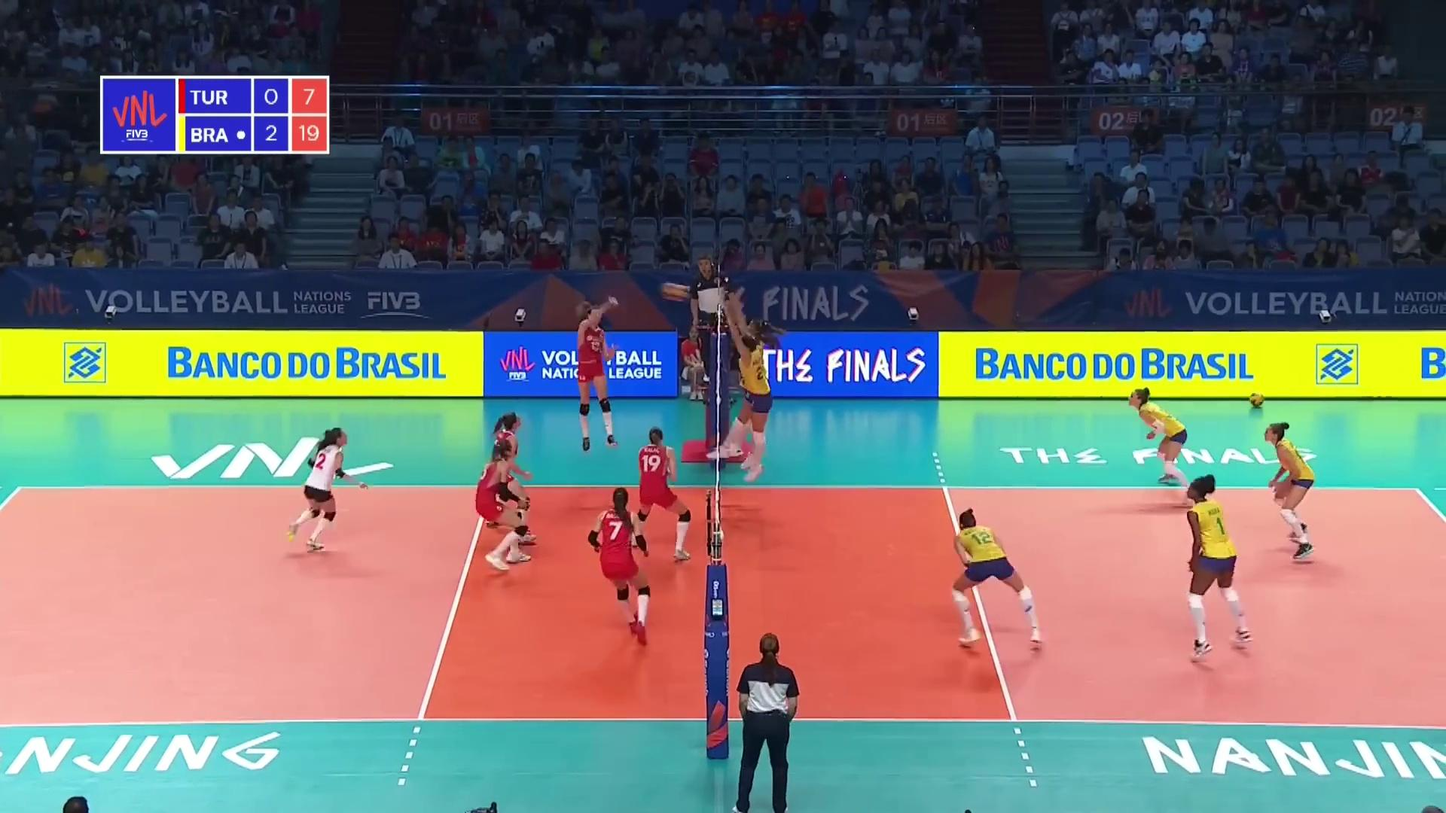player: (952, 509, 1046, 649), (1185, 477, 1254, 658), (286, 426, 370, 551), (588, 487, 653, 643), (715, 318, 780, 461), (628, 428, 689, 568), (1263, 425, 1321, 561), (1129, 390, 1194, 507), (478, 441, 532, 574), (576, 297, 618, 449), (489, 413, 535, 540), (735, 320, 770, 482)
refree: (732, 636, 798, 809), (693, 257, 737, 380)
